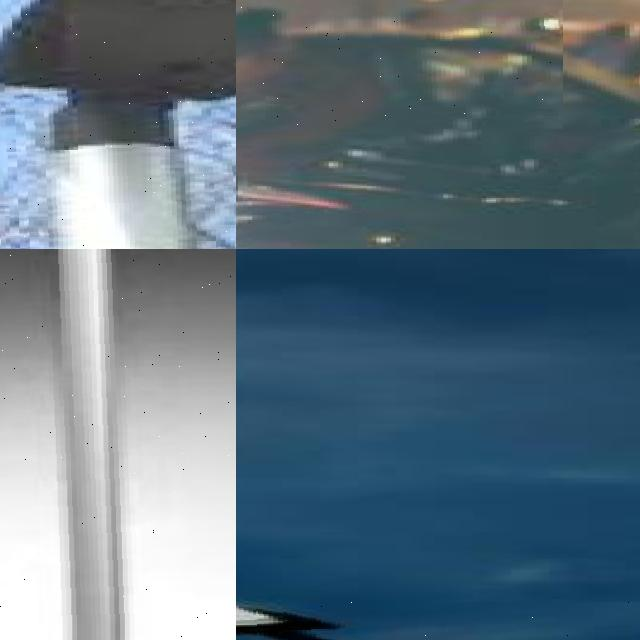street light: (0, 249, 236, 640), (0, 0, 236, 249), (236, 0, 562, 129)
